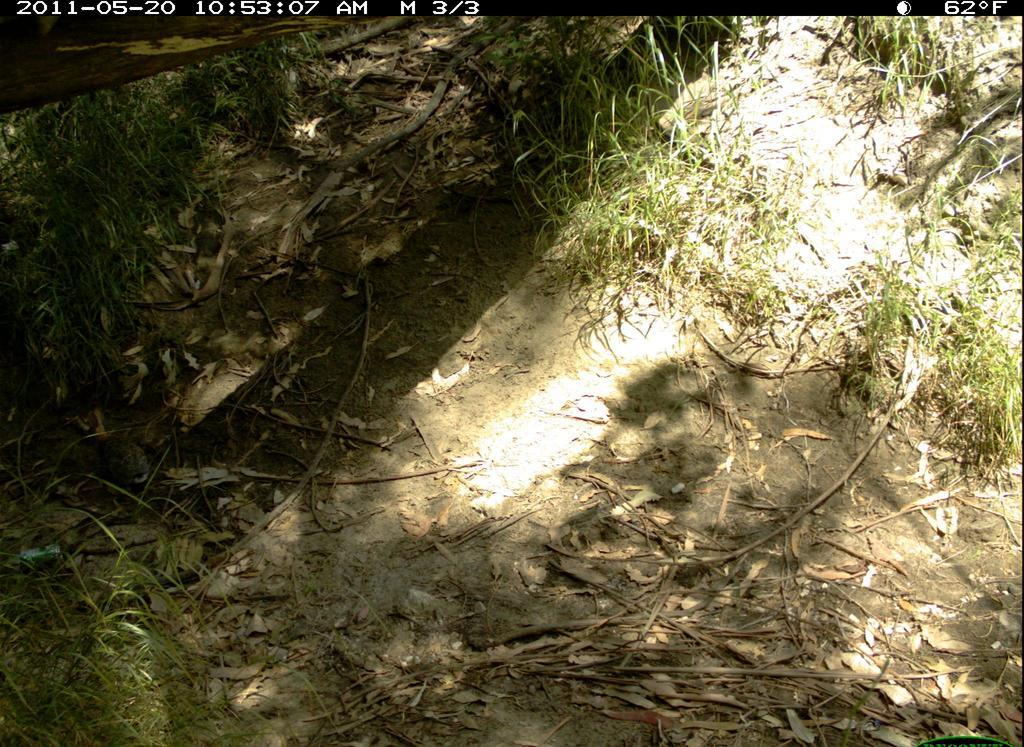rabbit: (47, 418, 154, 497)
